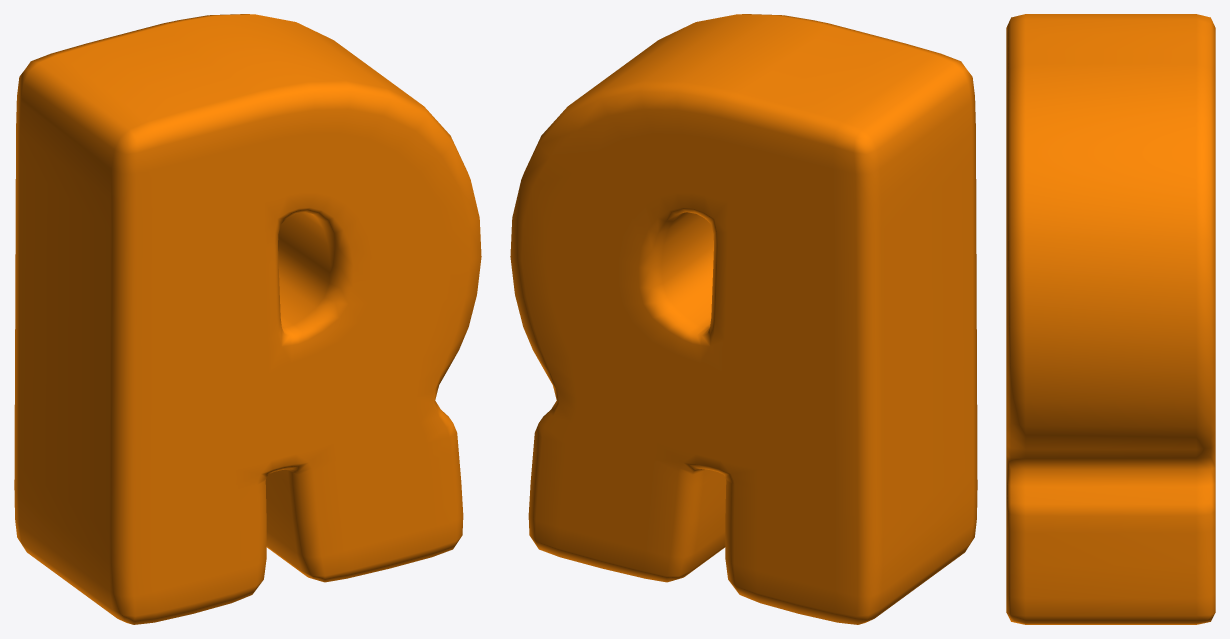
The picture shows the model from 3 angles, left to right: view 1: azimuth 30°, elevation 25°; view 2: azimuth 150°, elevation 25°; view 3: azimuth 270°, elevation 25°; orthographic projection. The views are drawn at different scales.
Parts seen in each view (by area): view 1: LETTER_R; view 2: LETTER_R; view 3: LETTER_R.
Boxes of the visible parts, x1,y1,x2,y2 form: LETTER_R: (14, 14, 481, 624); LETTER_R: (510, 14, 977, 624); LETTER_R: (1006, 14, 1215, 624).
Bounding box in the file's own units: 0.7643 × 1 × 0.3987.
